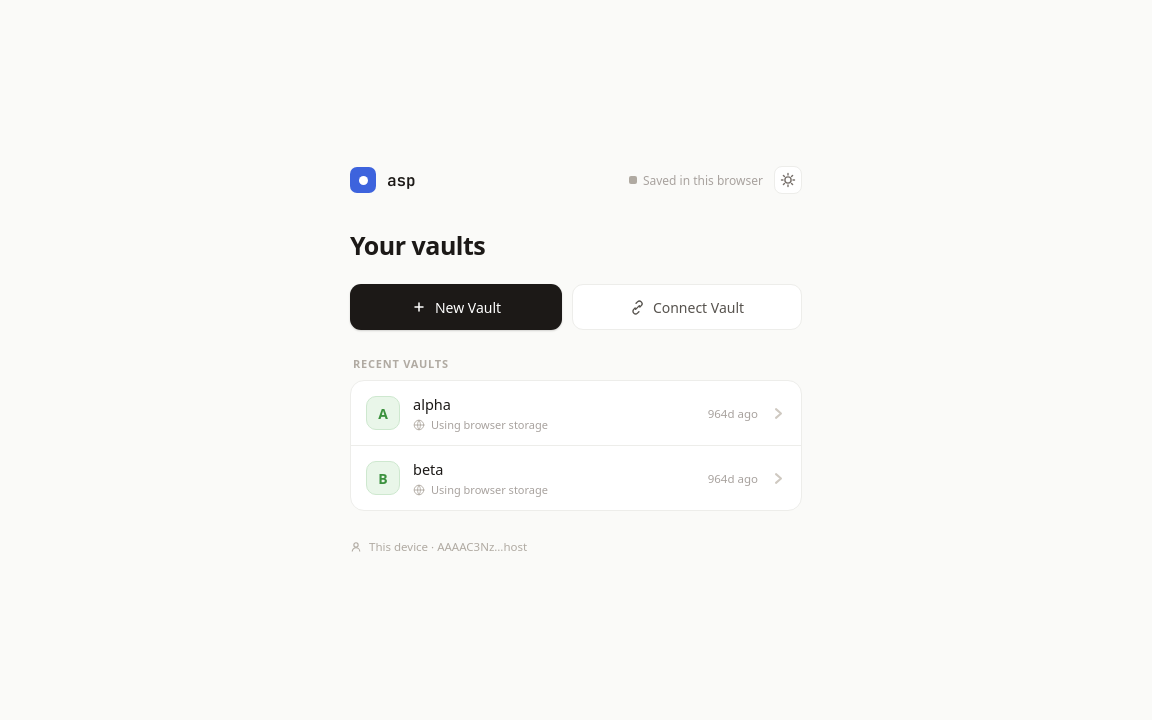
Scenario: App — tabs + URL hash (desktop) › moving the active file (drag-drop) remaps its tab and the hash
Click the text "alpha": [432, 404] box [413, 394, 451, 414]
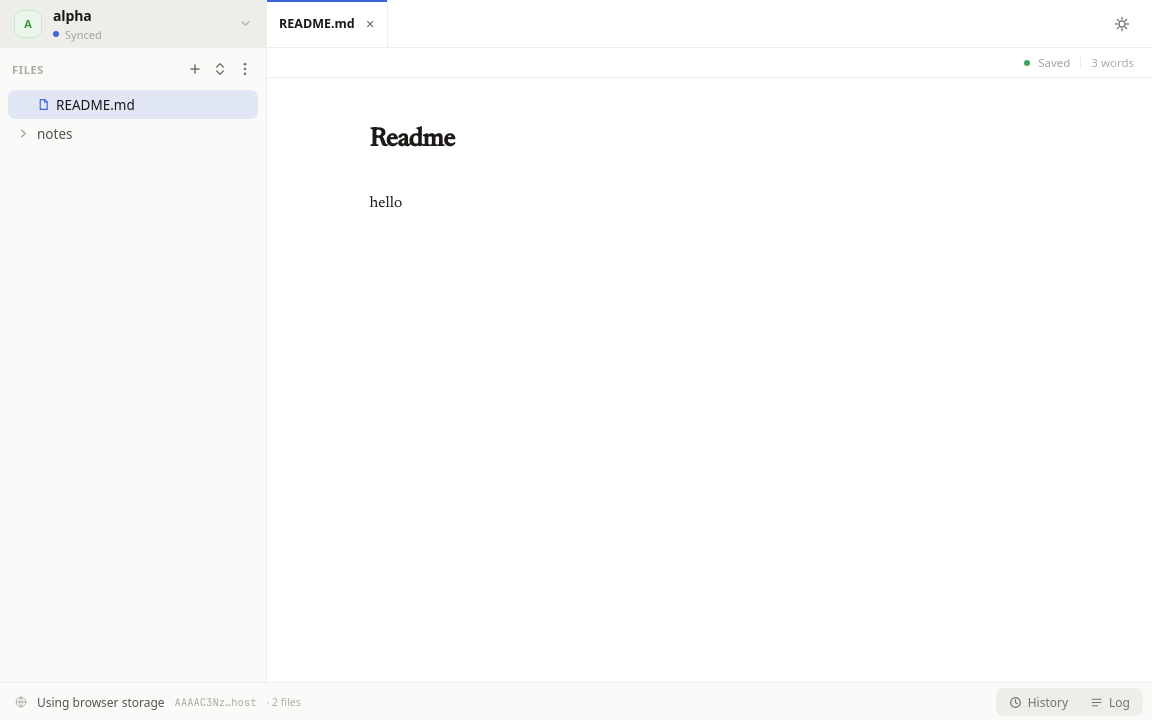
Expected: the text box with test id "live-editor" is shown, [370, 127, 454, 211]
